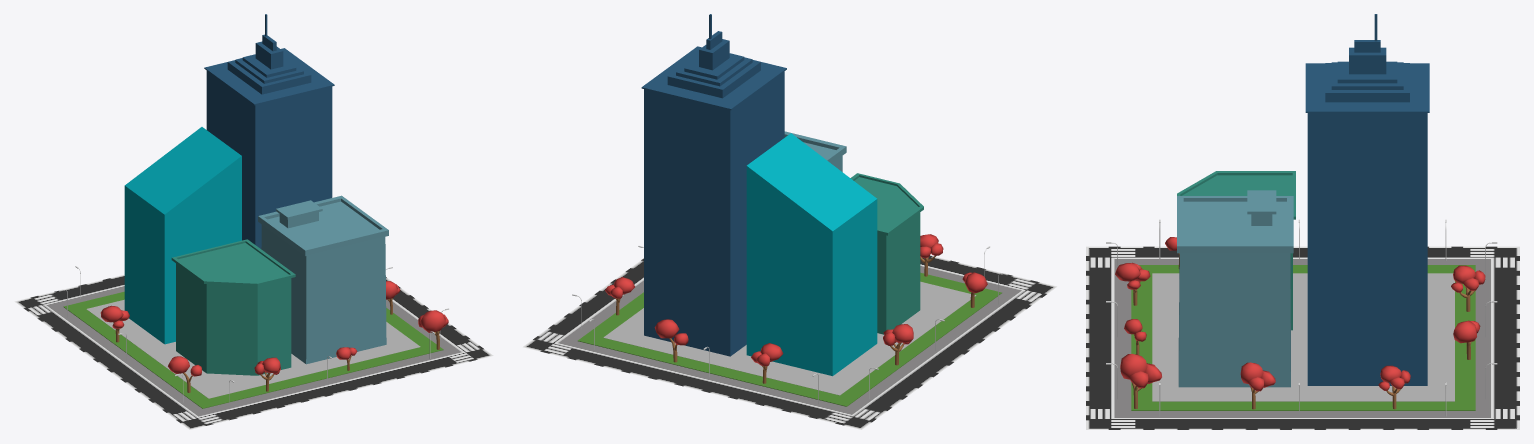
File: Buildings_BO.fbx
3 renders of one model, left to right at view 1: azimuth 30°, elevation 25°; view 2: azimuth 150°, elevation 25°; view 3: azimuth 270°, elevation 25°, orthographic. The views are drawn at different scales.
Parts seen in each view (by area): view 1: Box4459, Box4486, Building01, Box3742, Box3743, Box4513, Cone299, Cone301, Cone345, Cone297; view 2: Box4486, Box4459, Box3742, Box4513, Box3743, Building01, Cone301, Cone346, Cone297, Cone347; view 3: Box4486, Box3742, Building01, Box4513, Box3743, Box4459, Cone299, Cone347, Cone295, Cone300, Cone297, Cone346.
Part boxes in pixels (x1,y1,x2,y2): Box4459: (124,127,295,375); Box4486: (204,14,334,248); Building01: (258,195,388,364); Box3742: (14,274,493,429); Box3743: (63,291,443,408); Box4513: (86,299,420,398); Cone299: (418,310,448,349); Cone301: (100,305,129,342); Cone345: (168,356,201,392); Cone297: (254,357,280,391); Box4486: (641,14,786,356); Box4459: (746,133,923,376); Box3742: (523,255,1056,429); Box4513: (603,281,976,395); Box3743: (578,272,1001,406); Building01: (784,131,846,171); Cone301: (883,324,913,365); Cone346: (654,319,688,362); Cone297: (920,234,943,276); Cone347: (751,343,783,383); Box4486: (1305,14,1429,385); Box3742: (1086,246,1519,429); Building01: (1177,190,1293,387); Box4513: (1152,273,1454,401); Box3743: (1131,265,1475,410); Box4459: (1177,171,1295,330); Cone299: (1120,353,1161,408); Cone347: (1451,265,1485,311); Cone295: (1240,362,1275,409); Cone300: (1378,365,1410,409); Cone297: (1115,262,1150,305); Cone346: (1453,320,1480,359).
Bounding box in the file's own units: 1000 × 900 × 1000.
